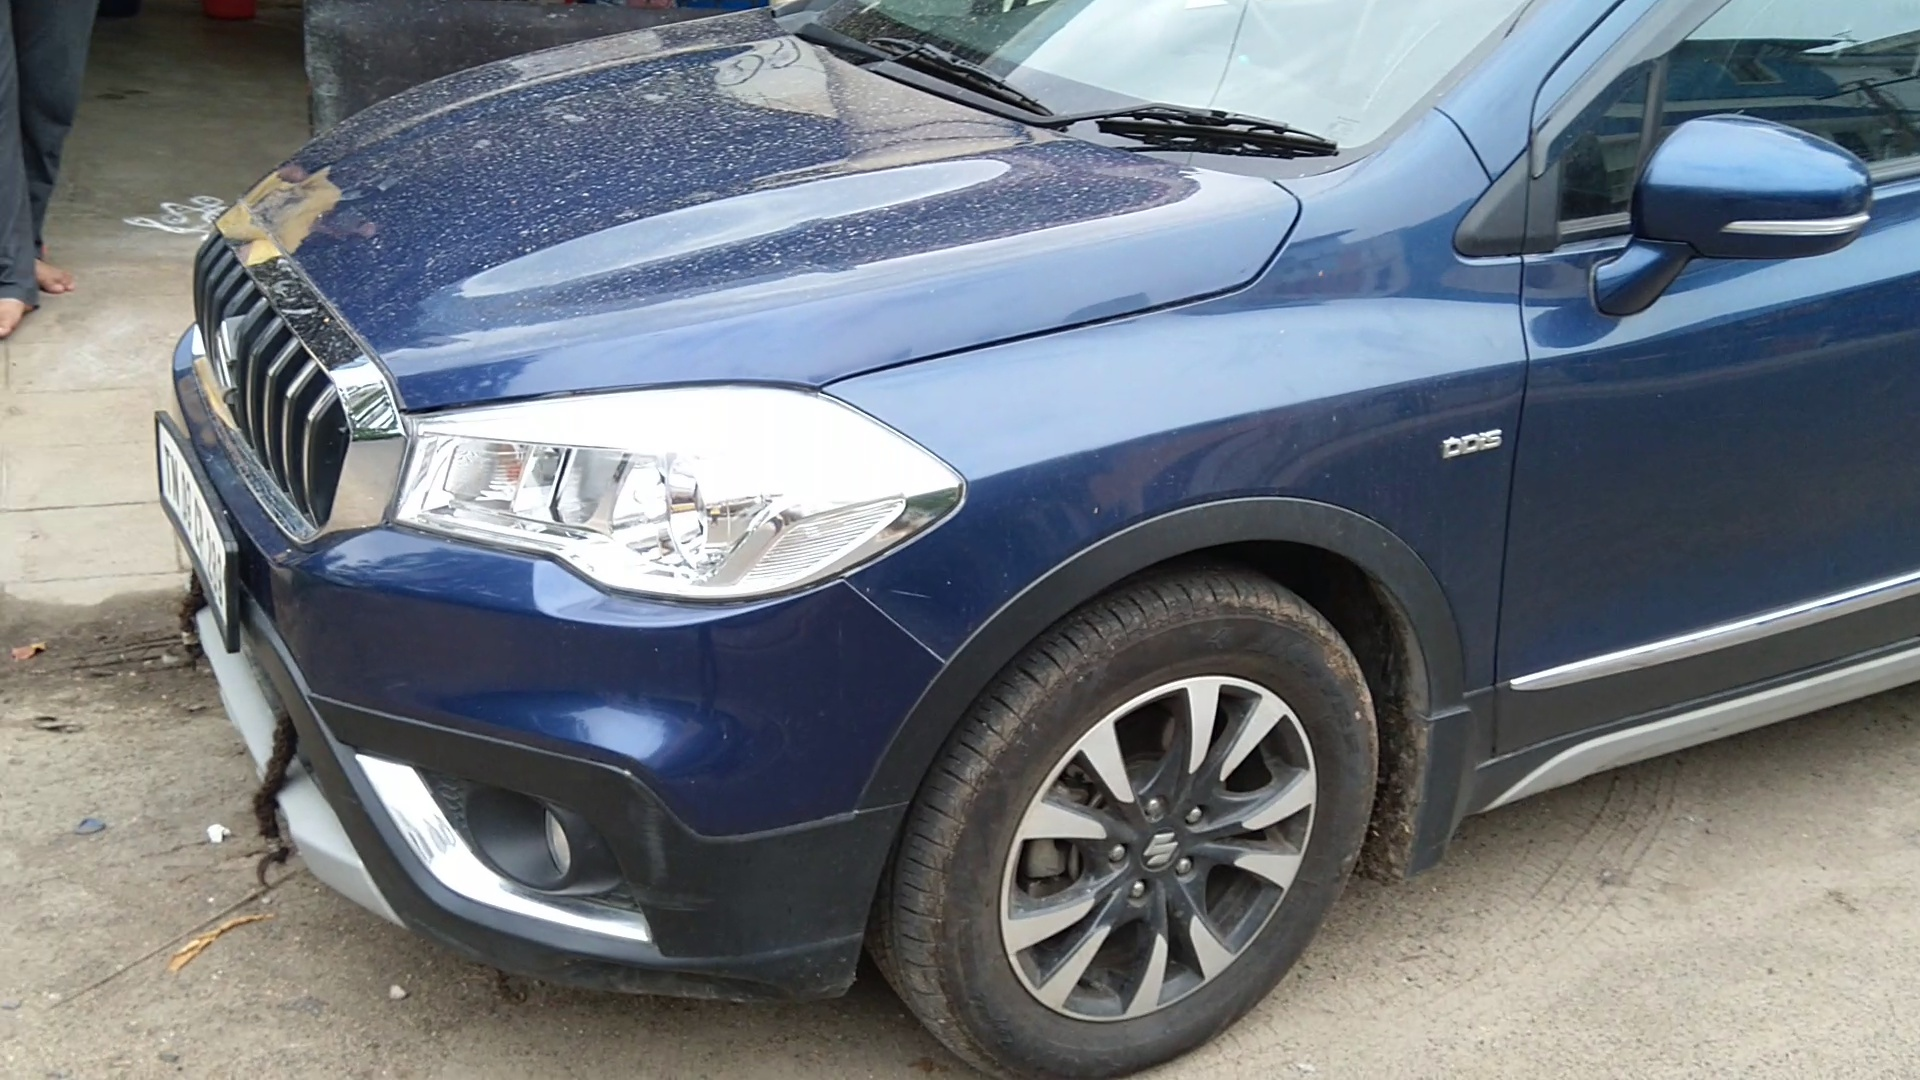alloy_wheel: (944, 603, 1364, 1080)
front_grill: (161, 171, 382, 582)
headlamp: (382, 352, 967, 632)
ovr_mirror: (1635, 102, 1884, 281)
